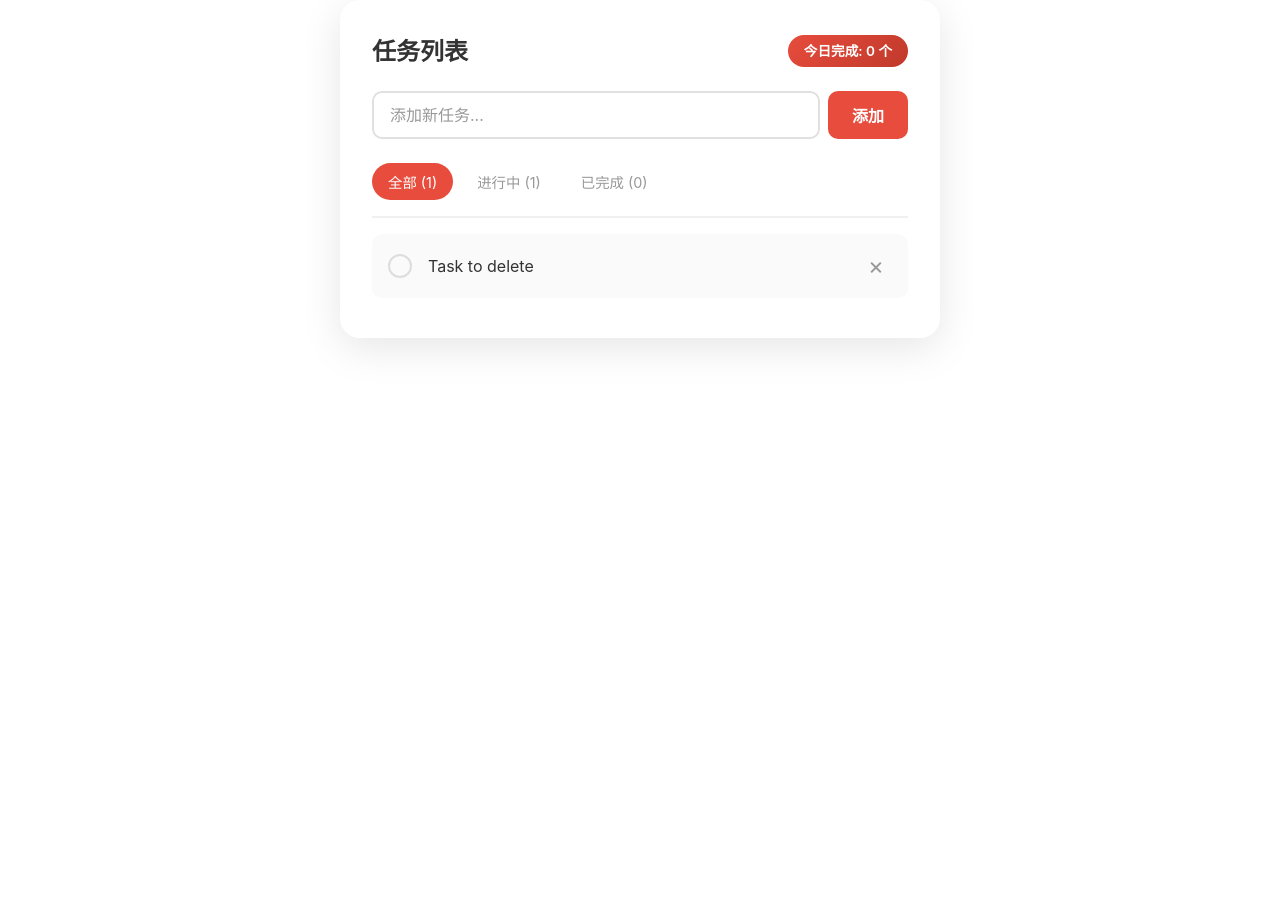
TaskList › delete task › shows confirm modal when delete button clicked
Step 1. Click the button titled "删除任务" → (876, 266), box [860,250,892,282]
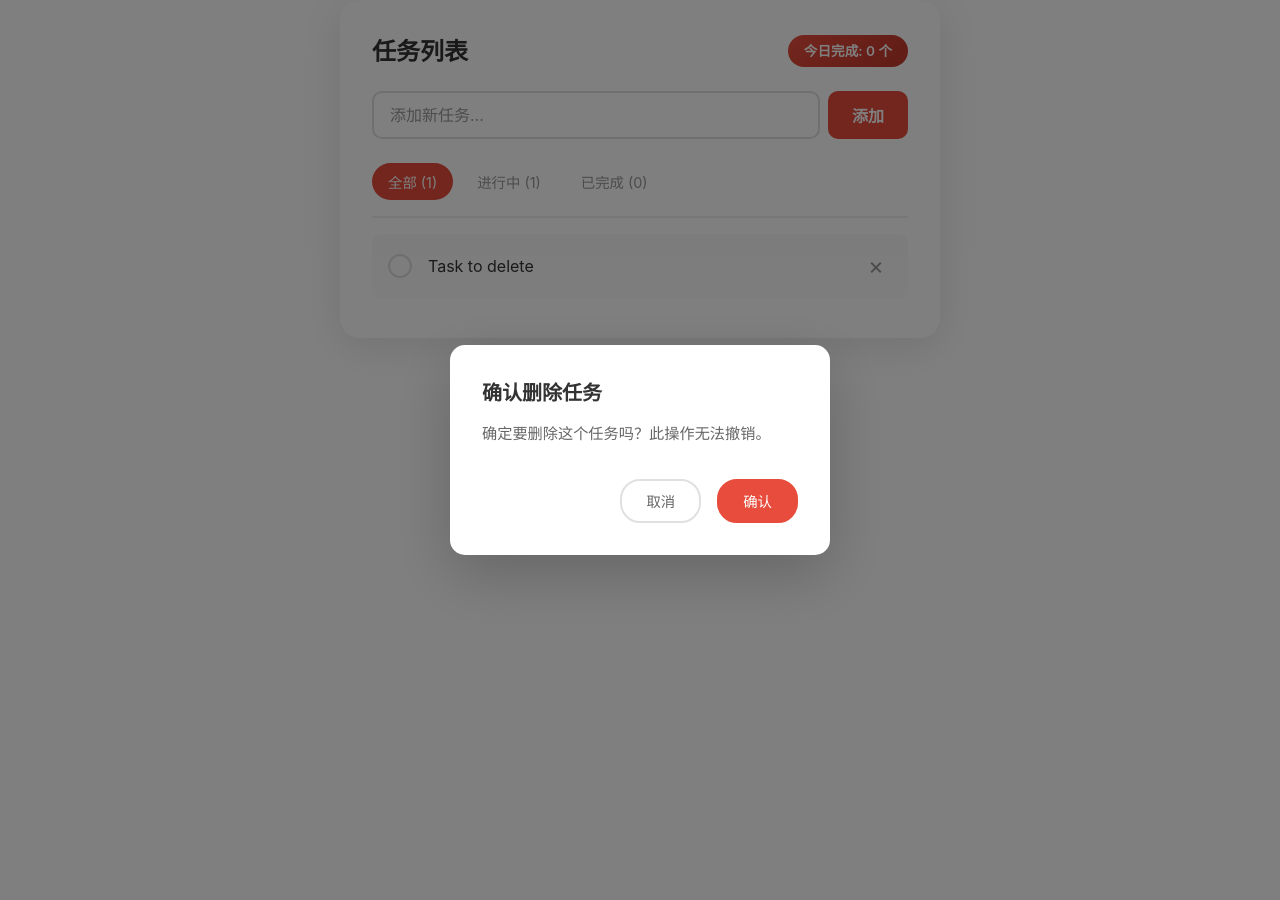
Now the heading "确认删除任务" is shown, box [482,381,602,405]
